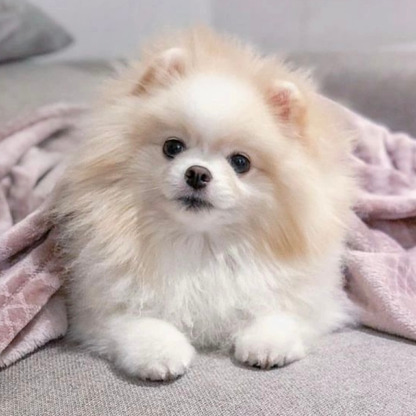Pomeranian: (79, 33, 371, 379)
